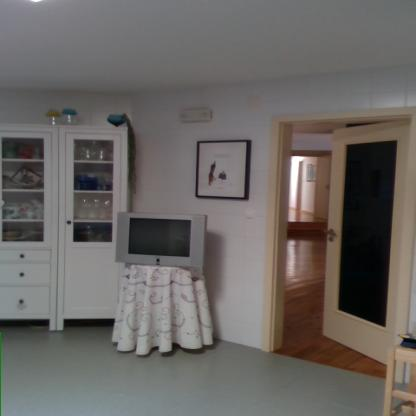semi: (264, 102, 411, 361)
